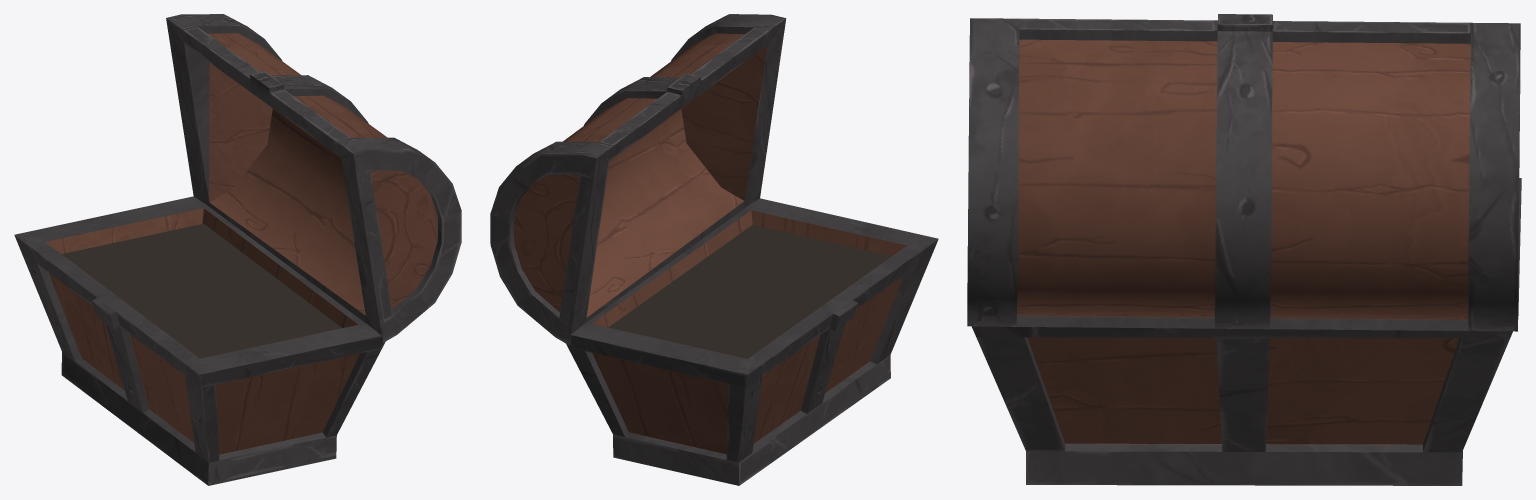
The model's file is Bau.fbx.
The picture shows the model from 3 angles, left to right: view 1: azimuth 30°, elevation 25°; view 2: azimuth 150°, elevation 25°; view 3: azimuth 270°, elevation 25°; orthographic projection. The views are drawn at different scales.
Visible parts, largest first — view 1: Bau.002, Bau.003; view 2: Bau.002, Bau.003; view 3: Bau.003, Bau.002.
Part boxes in pixels (x1,y1,x2,y2): Bau.002: (14, 196, 385, 485); Bau.003: (166, 14, 461, 342); Bau.002: (560, 198, 938, 485); Bau.003: (490, 14, 786, 345); Bau.003: (967, 14, 1520, 331); Bau.002: (971, 178, 1521, 485).
Bounding box in the file's own units: 1053 × 1217 × 1301.
